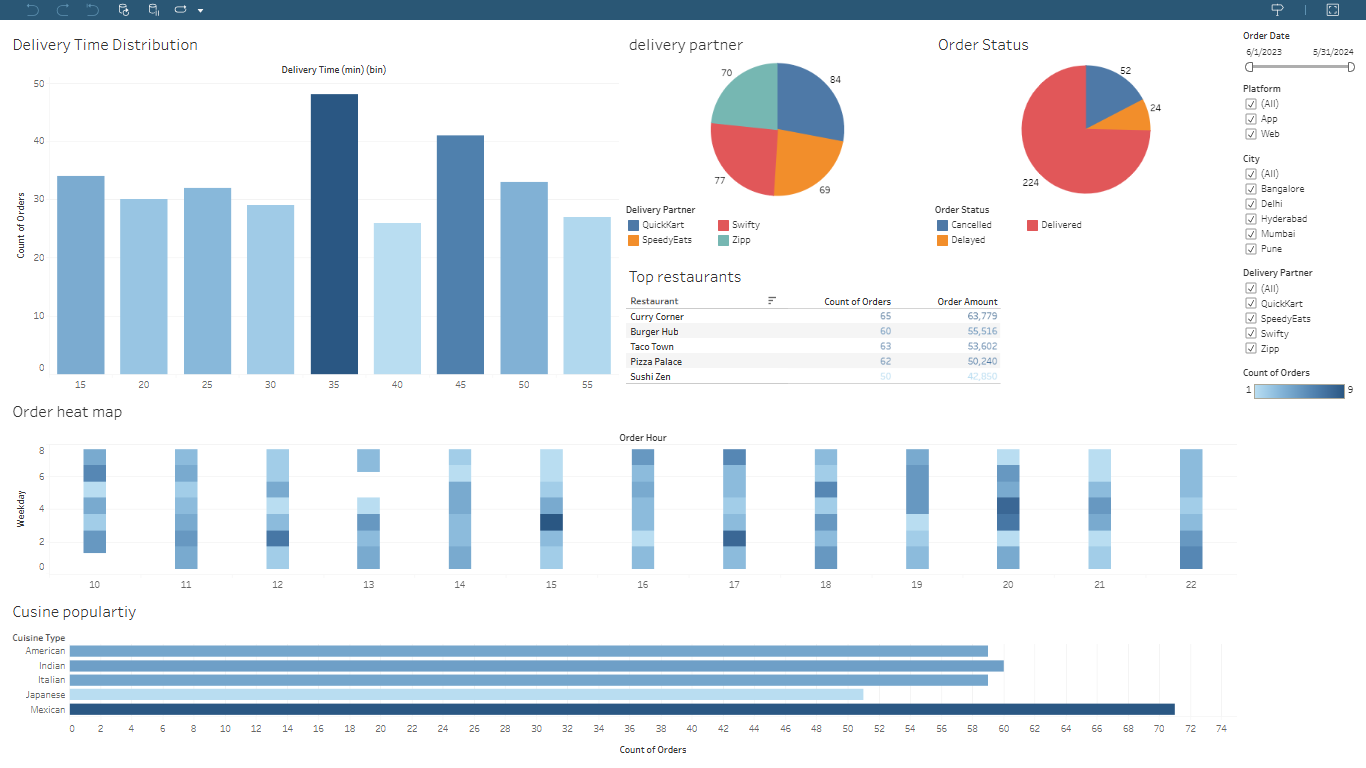

This screenshot's page, from the dashboard's own definition file:
{"tool":"tableau","page":{"name":"Operational insights","canvas":[1000,1000],"units":"permille","ordinal":2},"visuals":[{"type":"worksheet","title":"Delivery Time Distribution  ","mark":"Bar","rows":["Orders_90EB09EB2D6F4BEDAFC57F3723FEA3BF"],"cols":["Delivery Time (min) (bin)"],"box":[12.3,10.5,364.6,489.4]},{"type":"worksheet","title":"Delivery Partner efficeincy ","mark":"Automatic","rows":["Delivery Partner"],"cols":["Delivery Time (min)"],"box":[376.9,10.5,364.6,244.7]},{"type":"worksheet","title":"Order Status ","mark":"Pie","box":[741.5,10.5,246.2,112.5]},{"type":"legend","title":"Order Status ","param":"[federated.0hogbfi0d1iovd1blybye1nn2n2q].[none:Order Status:nk]","box":[741.5,123,246.2,112.5]},{"type":"legend","title":"Order heat map","param":"[federated.0hogbfi0d1iovd1blybye1nn2n2q].[__tableau_internal_object_id__].[cnt:O","box":[741.5,235.5,246.2,95.8]},{"type":"worksheet","title":"Top restaurants","mark":"Automatic","rows":["Restaurant"],"box":[376.9,255.2,364.6,244.7]},{"type":"worksheet","title":"delivery partner","mark":"Pie","box":[741.5,331.3,246.2,112.5]},{"type":"legend","title":"delivery partner","param":"[federated.0hogbfi0d1iovd1blybye1nn2n2q].[none:Delivery Partner:nk]","box":[741.5,443.7,246.2,112.5]},{"type":"worksheet","title":"Order heat map","mark":"Square","rows":["Calculation_253890444938027016"],"cols":["Calculation_253890444935942151"],"box":[12.3,499.9,729.2,244.6]},{"type":"filter","title":"Cusine populartiy","param":"[federated.0hogbfi0d1iovd1blybye1nn2n2q].[none:Order Date:qk]","box":[741.5,556.2,246.2,95.8]},{"type":"filter","title":"Cusine populartiy","param":"[federated.0hogbfi0d1iovd1blybye1nn2n2q].[none:Platform:nk]","box":[741.5,652,246.2,112.5]},{"type":"worksheet","title":"Cusine populartiy","mark":"Automatic","rows":["Cuisine Type"],"cols":["Orders_90EB09EB2D6F4BEDAFC57F3723FEA3BF"],"box":[12.3,744.6,729.2,244.9]},{"type":"filter","title":"Cusine populartiy","param":"[federated.0hogbfi0d1iovd1blybye1nn2n2q].[none:City:nk]","box":[741.5,764.5,246.2,112.5]},{"type":"filter","title":"Delivery Time Distribution  ","param":"[federated.0hogbfi0d1iovd1blybye1nn2n2q].[none:Delivery Partner:nk]","box":[741.5,877,246.2,112.5]}]}

Visuals, with their boxes on the dashboard's canvas, which has no fixed pixel size, in thousandths of its width and height (x1, y1, x2, y2). These are canvas units, not pixel positions in the 1366x768 screenshot, which may show the page scaled, cropped or inside an application window:
"Delivery Time Distribution  " worksheet (Bar marks): locate(12, 10, 377, 500)
"Delivery Partner efficeincy " worksheet: locate(377, 10, 742, 255)
"Order Status " worksheet (Pie marks): locate(742, 10, 988, 123)
"Order Status " legend: locate(742, 123, 988, 236)
"Order heat map" legend: locate(742, 236, 988, 331)
"Top restaurants" worksheet: locate(377, 255, 742, 500)
"delivery partner" worksheet (Pie marks): locate(742, 331, 988, 444)
"delivery partner" legend: locate(742, 444, 988, 556)
"Order heat map" worksheet (Square marks): locate(12, 500, 742, 744)
"Cusine populartiy" filter: locate(742, 556, 988, 652)
"Cusine populartiy" filter: locate(742, 652, 988, 764)
"Cusine populartiy" worksheet: locate(12, 745, 742, 990)
"Cusine populartiy" filter: locate(742, 764, 988, 877)
"Delivery Time Distribution  " filter: locate(742, 877, 988, 990)
